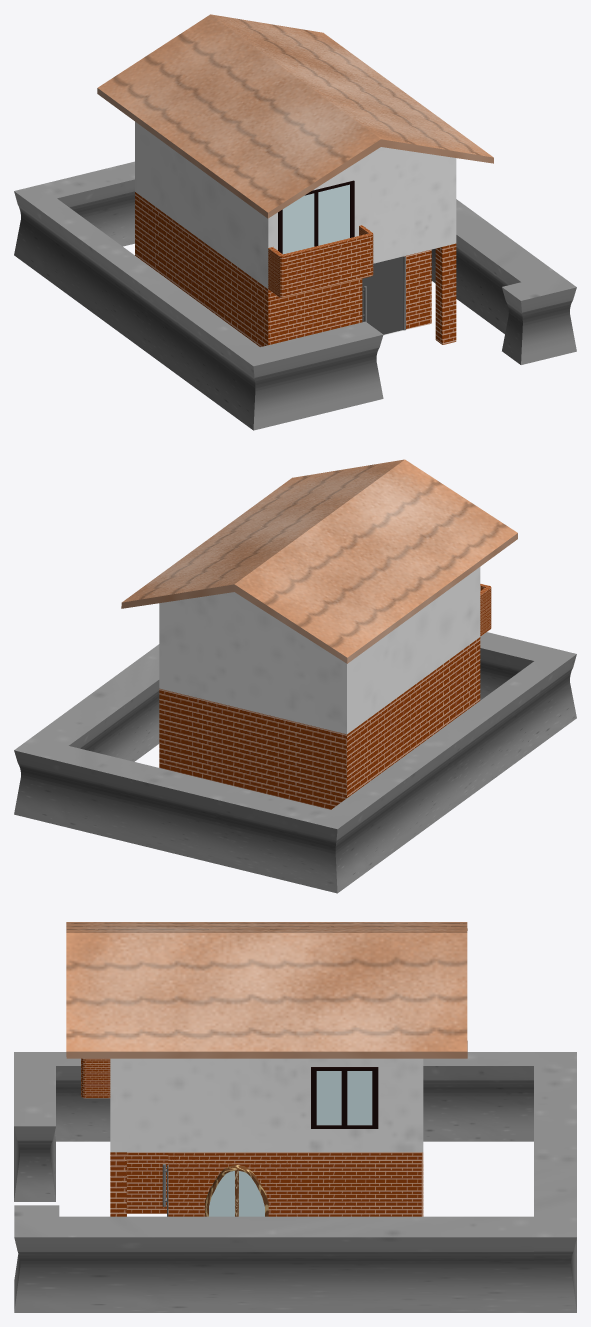
File: playerHome.fbx
3 views of the same model, one above another, from view 1: azimuth 30°, elevation 25°; view 2: azimuth 150°, elevation 25°; view 3: azimuth 270°, elevation 25° (orthographic). The views are drawn at different scales.
Parts seen in each view (by area): view 1: Cube, 立方体; view 2: Cube, 立方体; view 3: Cube, 立方体.
Part boxes in pixels (x1,y1,x2,y2): Cube: [97, 14, 493, 346]; 立方体: [14, 161, 576, 430]; Cube: [121, 459, 517, 809]; 立方体: [14, 632, 576, 893]; Cube: [66, 922, 467, 1216]; 立方体: [14, 1052, 576, 1312].
Bounding box in the file's own units: 3.44 × 2.43 × 4.41.
Materials: 5 (5 with a texture image).
